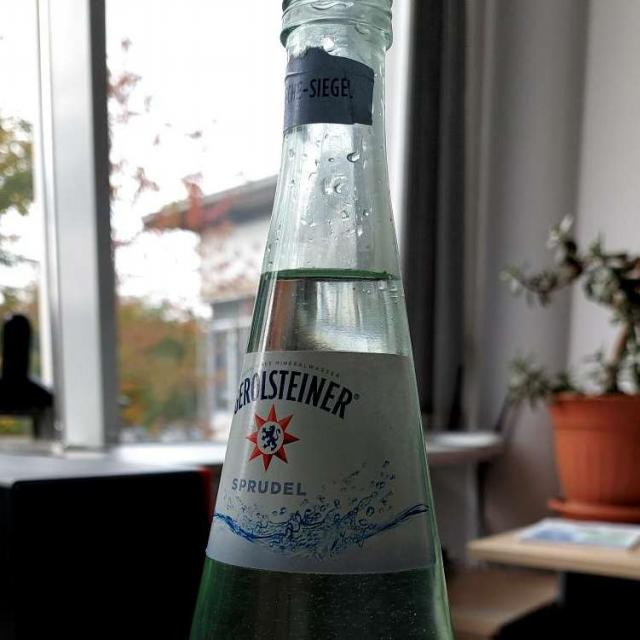water: (192, 279, 480, 631), (247, 278, 410, 346)
